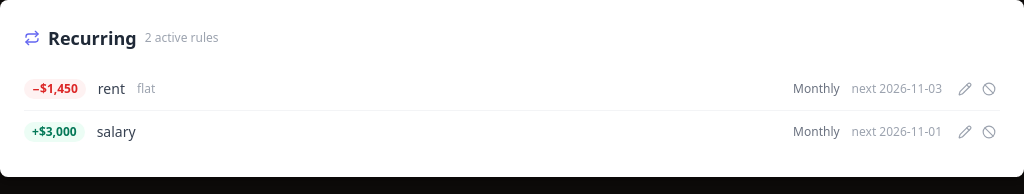
it: RecurringPanel › arming stop can be cancelled
Click the button named "Stop recurring transaction" in the row of "$1,450" at [989, 89], box [978, 78, 1000, 100]
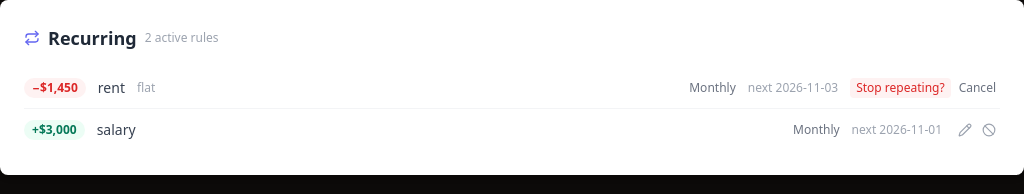
Click the button "Cancel" at [977, 88], box [955, 80, 1000, 96]
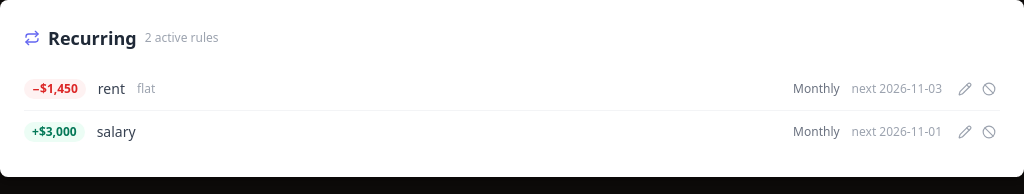
expect the button "Stop repeating?" is gone: met
